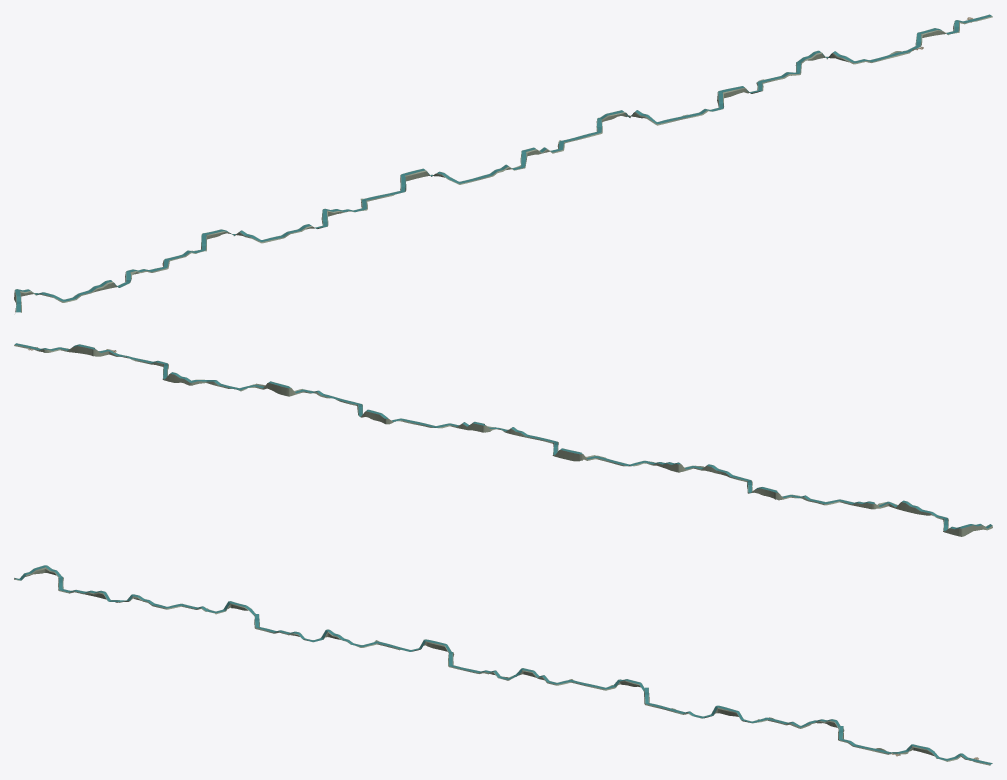
The model's file is river.glb.
3 renders of one model, top to bottom at view 1: azimuth 30°, elevation 25°; view 2: azimuth 150°, elevation 25°; view 3: azimuth 330°, elevation 25°, orthographic. The views are drawn at different scales.
Bounding box in the file's own units: 354 × 2.94 × 40.24.
